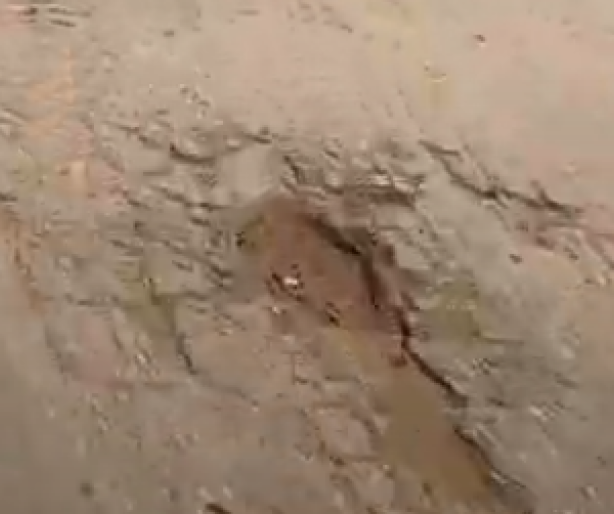Berlubang: (157, 112, 556, 514)
